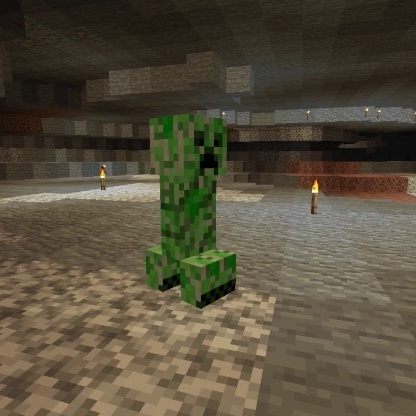creeper: (143, 110, 240, 312)
